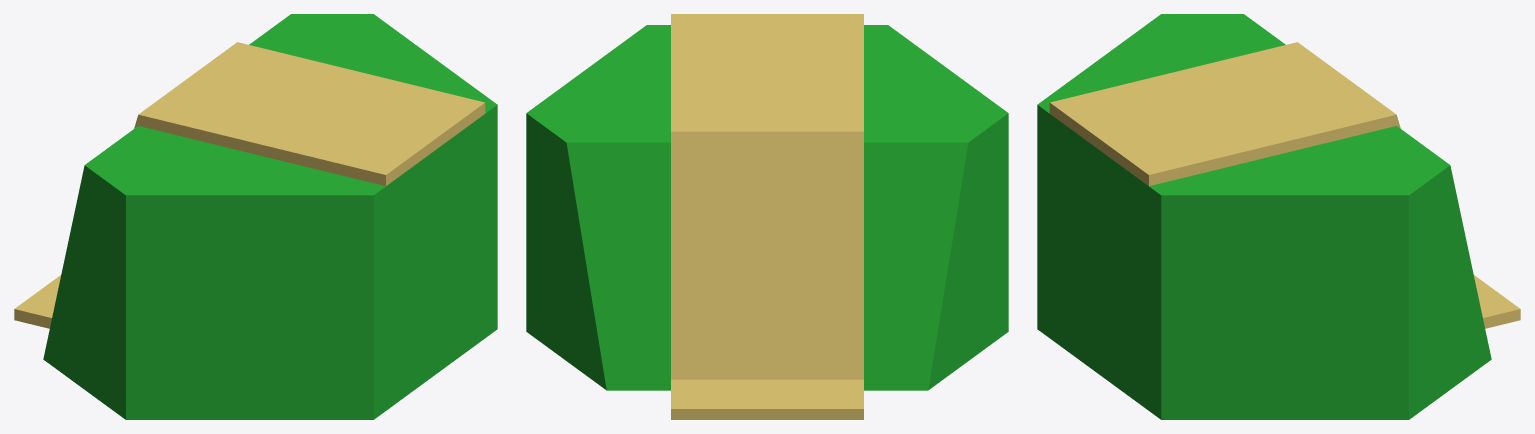
Rendered from cliff-big-stairs_corner.glb.
3 views of the same model, side by side, from view 1: azimuth 30°, elevation 25°; view 2: azimuth 150°, elevation 25°; view 3: azimuth 270°, elevation 25° (orthographic). The views are drawn at different scales.
Visible parts, largest first — view 1: cliff-big-stairs_corner; view 2: cliff-big-stairs_corner; view 3: cliff-big-stairs_corner.
Part boxes in pixels (x1,y1,x2,y2): cliff-big-stairs_corner: [14, 14, 497, 419]; cliff-big-stairs_corner: [526, 14, 1008, 419]; cliff-big-stairs_corner: [1037, 14, 1520, 419].
Bounding box in the file's own units: 0.866 × 0.525 × 0.975.
